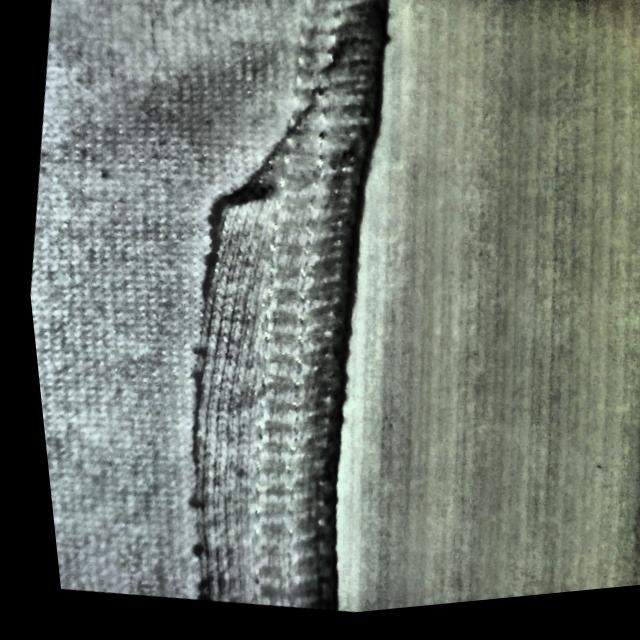seam: (94, 125, 409, 628)
